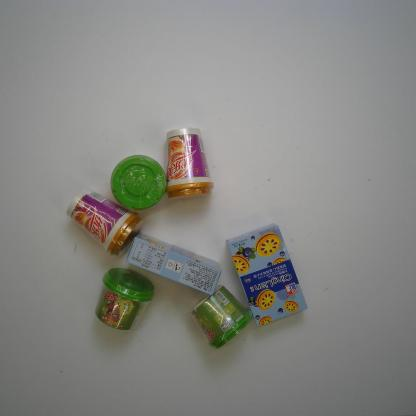Dessert: (223, 222, 309, 331), (124, 232, 224, 297)
Instant Drink: (63, 187, 147, 258), (188, 285, 256, 349), (92, 266, 156, 333), (161, 125, 215, 203), (110, 154, 166, 213)
